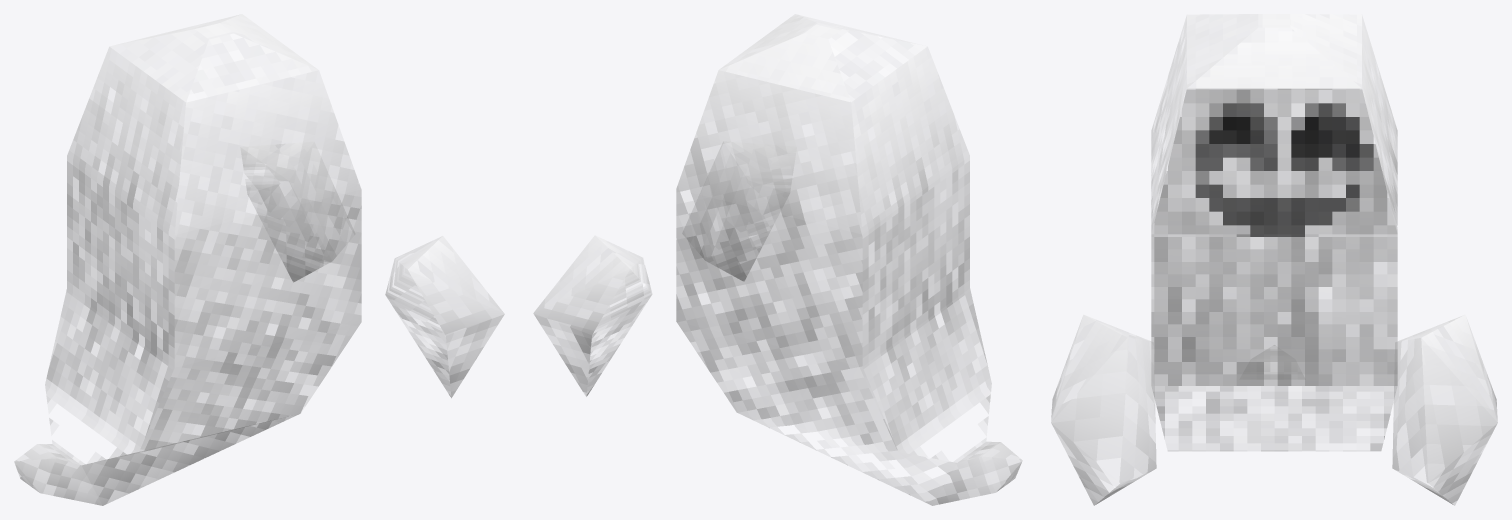
The model's file is KindredSpirits.glb.
The picture shows the model from 3 angles, left to right: view 1: azimuth 30°, elevation 25°; view 2: azimuth 150°, elevation 25°; view 3: azimuth 270°, elevation 25°; orthographic projection. The views are drawn at different scales.
Parts seen in each view (by area): view 1: Körper, Arm_Rechts, Arm_Links; view 2: Körper, Arm_Links, Arm_Rechts; view 3: Körper, Arm_Links, Arm_Rechts.
Part boxes in pixels (box(x1,y1,x2,y2)): Körper: box(14, 14, 361, 505); Arm_Rechts: box(385, 236, 504, 397); Arm_Links: box(240, 142, 354, 281); Körper: box(676, 14, 1022, 505); Arm_Links: box(533, 235, 651, 396); Arm_Rechts: box(683, 141, 796, 280); Körper: box(1151, 14, 1397, 450); Arm_Links: box(1392, 315, 1497, 505); Arm_Rechts: box(1051, 315, 1156, 505).
Size of the model in its own units: 0.9806 by 0.9943 by 0.8126.
1 material, 1 textured.
